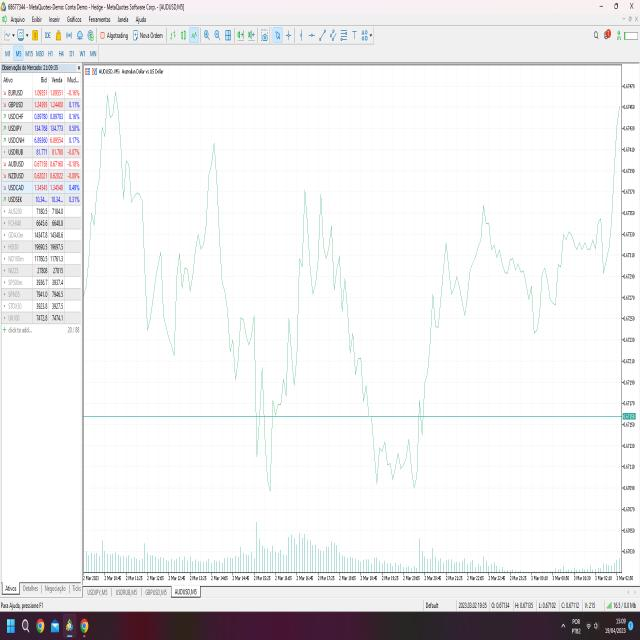fundo_duplo: (134, 174, 186, 380)
oco_inv: (222, 303, 302, 505)
topo_duplo: (294, 168, 336, 347)
